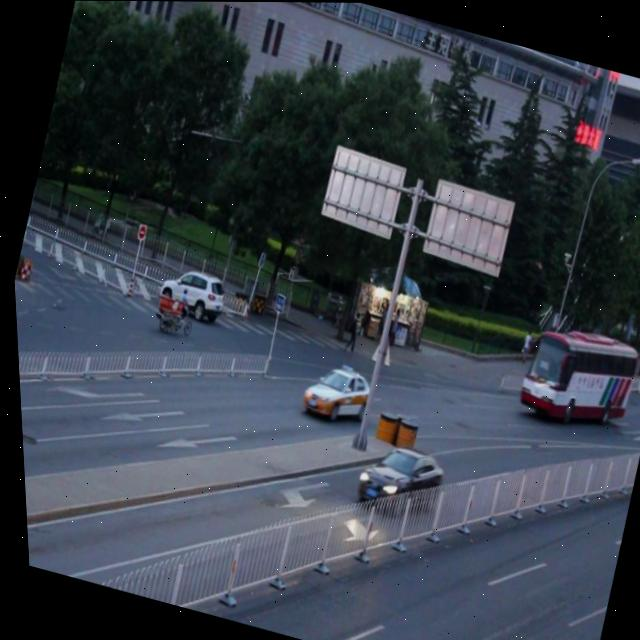car: (346, 431, 442, 516), (293, 355, 372, 427), (150, 264, 227, 331)
van: (508, 314, 640, 436)
